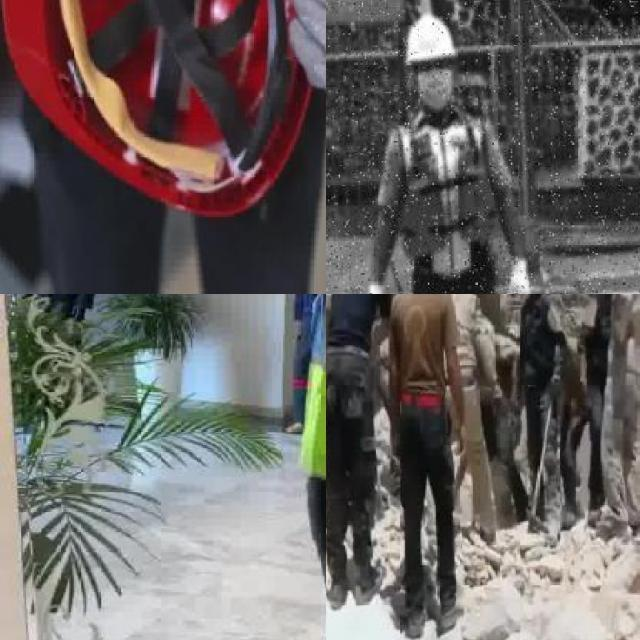apron: (506, 255, 537, 294), (365, 278, 391, 294)
